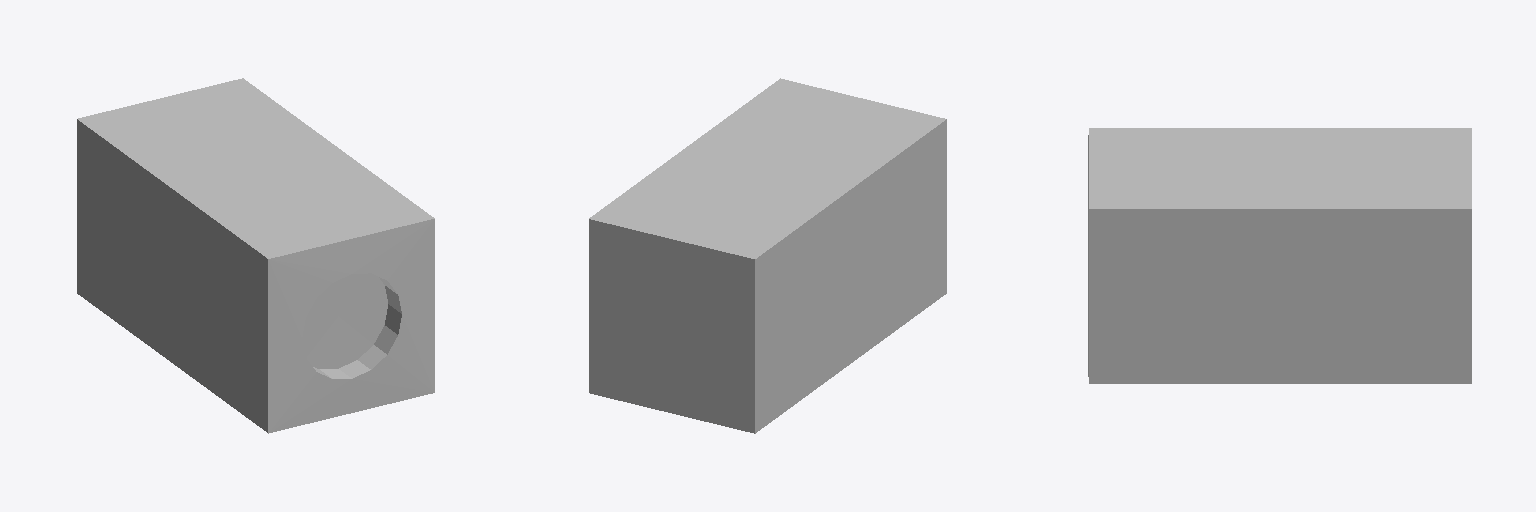
3 renders of one model, left to right at view 1: azimuth 30°, elevation 25°; view 2: azimuth 150°, elevation 25°; view 3: azimuth 270°, elevation 25°, orthographic.
Parts seen in each view (by area): view 1: Cube_Cube_None_QuartoPieces.png; view 2: Cube_Cube_None_QuartoPieces.png; view 3: Cube_Cube_None_QuartoPieces.png.
Boxes of the visible parts, x1=… form: Cube_Cube_None_QuartoPieces.png: x1=77, y1=78, x2=434, y2=433; Cube_Cube_None_QuartoPieces.png: x1=589, y1=78, x2=946, y2=433; Cube_Cube_None_QuartoPieces.png: x1=1088, y1=128, x2=1471, y2=383.
Bounding box in the file's own units: 2 × 2 × 4.